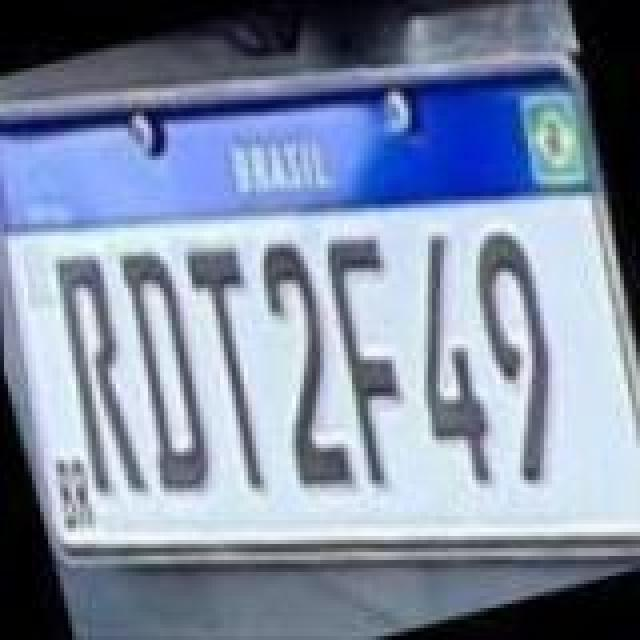2: (234, 226, 362, 494)
4: (380, 226, 504, 494)
9: (458, 218, 586, 486)
D: (96, 240, 228, 500)
F: (302, 224, 438, 492)
R: (34, 240, 162, 504)
T: (178, 230, 298, 494)
